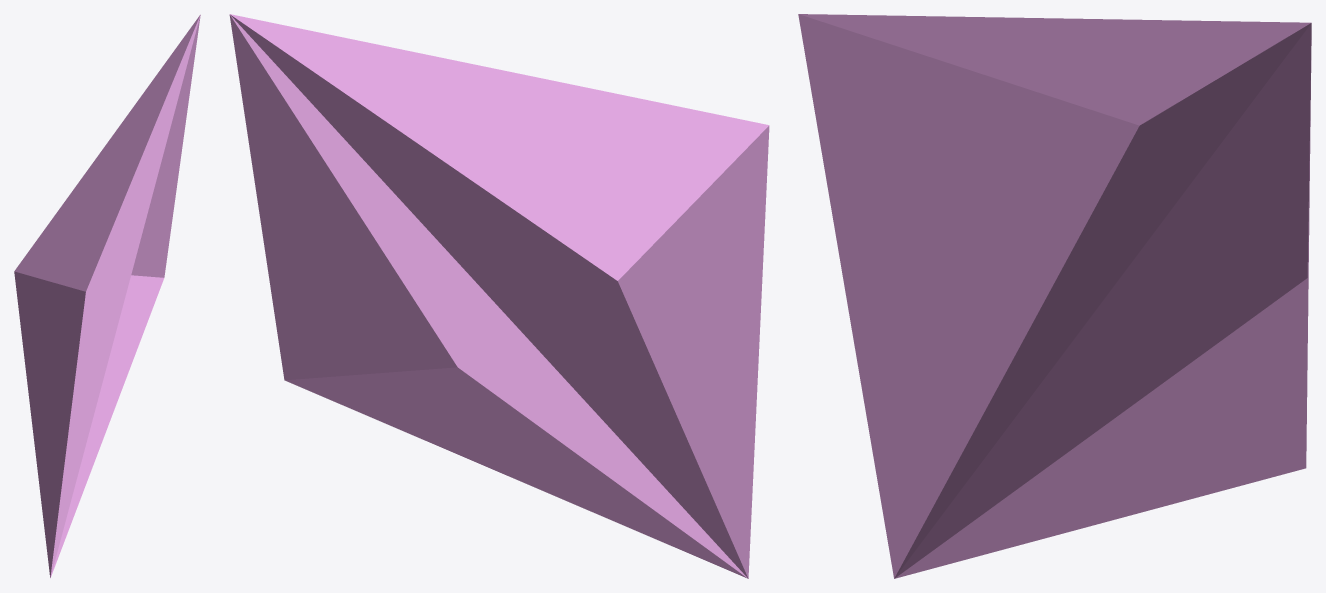
File: TYPE7-1.glb
3 views of the same model, side by side, from view 1: azimuth 30°, elevation 25°; view 2: azimuth 150°, elevation 25°; view 3: azimuth 270°, elevation 25° (orthographic). The views are drawn at different scales.
Parts seen in each view (by area): view 1: TYPE7-1 (×5); view 2: TYPE7-1 (×6); view 3: TYPE7-1 (×5).
Part boxes in pixels (bbox=[...]): TYPE7-1 (×5): bbox=[14, 15, 200, 577]; TYPE7-1 (×6): bbox=[229, 14, 769, 578]; TYPE7-1 (×5): bbox=[798, 14, 1311, 578].
Bounding box in the file's own units: 4.45 × 6.87 × 4.01.
